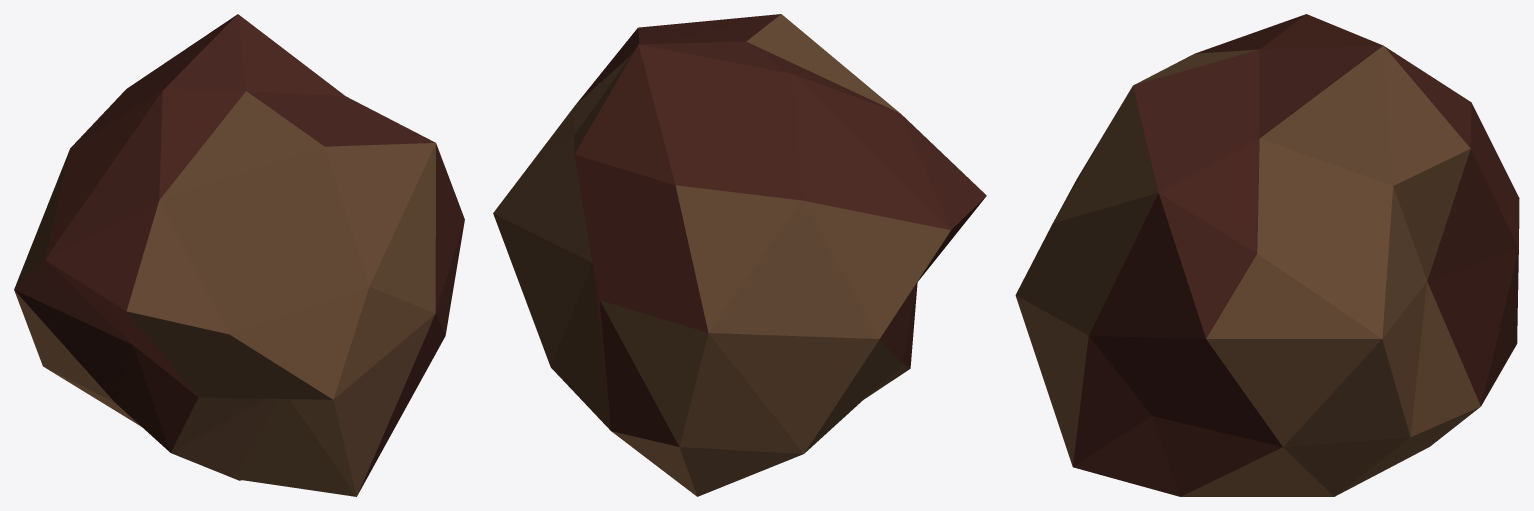
Rendered from GiantMeatball.fbx.
3 views of the same model, side by side, from view 1: azimuth 30°, elevation 25°; view 2: azimuth 150°, elevation 25°; view 3: azimuth 270°, elevation 25° (orthographic). The views are drawn at different scales.
Visible parts, largest first — view 1: Icosphere; view 2: Icosphere; view 3: Icosphere.
Boxes of the visible parts, x1,y1,x2,y2 form: Icosphere: (14, 14, 464, 496); Icosphere: (493, 14, 986, 496); Icosphere: (1015, 14, 1519, 496).
Size of the model in its own units: 2275 by 2294 by 2228.
